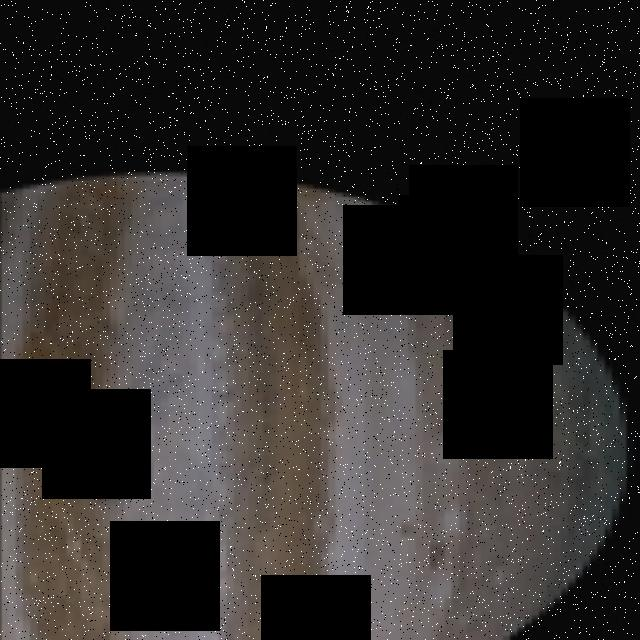Jupiter: (0, 172, 625, 639)
